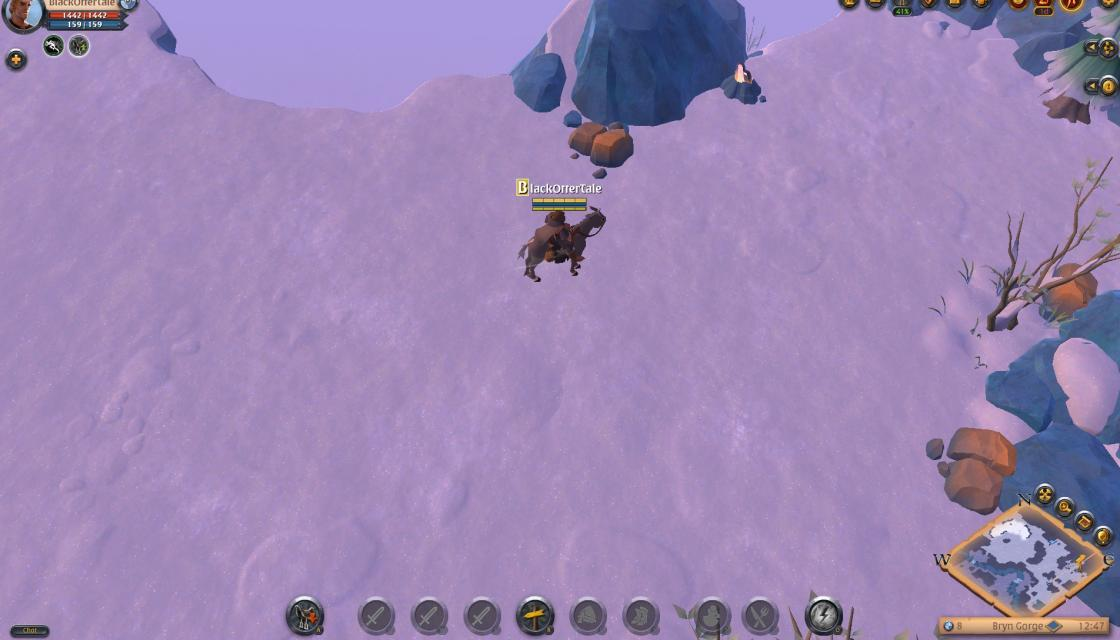copperore: (722, 62, 771, 108)
limestone: (930, 420, 1018, 514), (1033, 262, 1101, 327), (564, 118, 638, 174)
